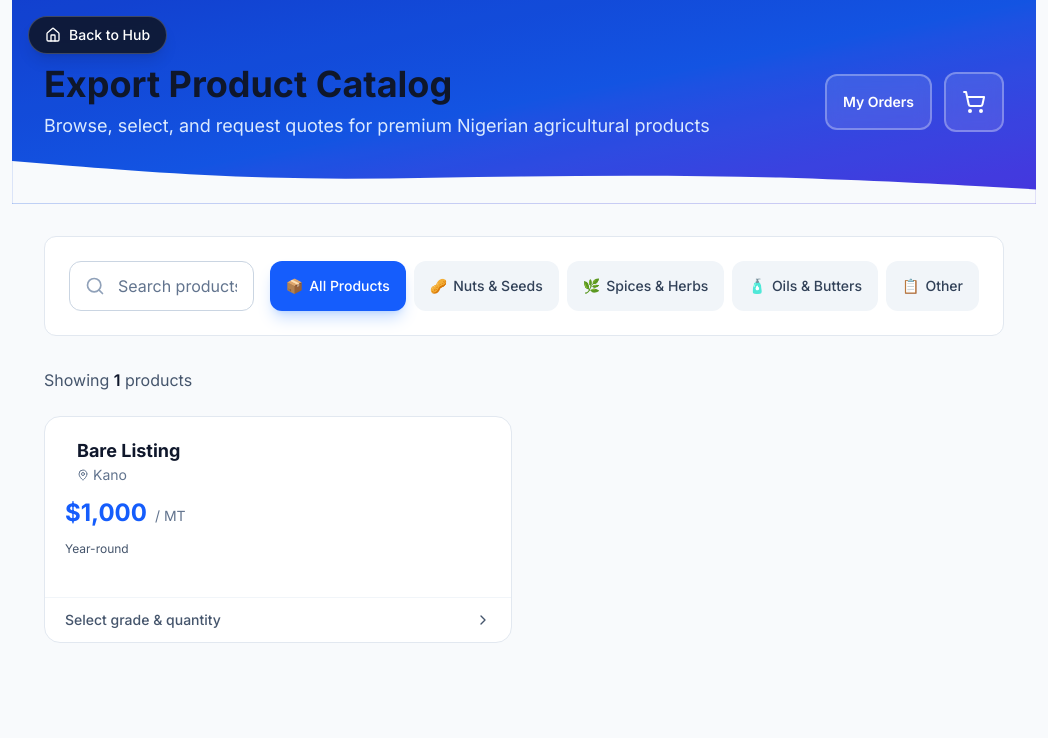
#581 — a row missing an array does not take the page down › A LISTING WITH NO GRADES AND NO CERTIFICATIONS STILL RENDERS
Step 1. Click the button "Select grade & quantity" → (143, 620), box [65,598,491,642]
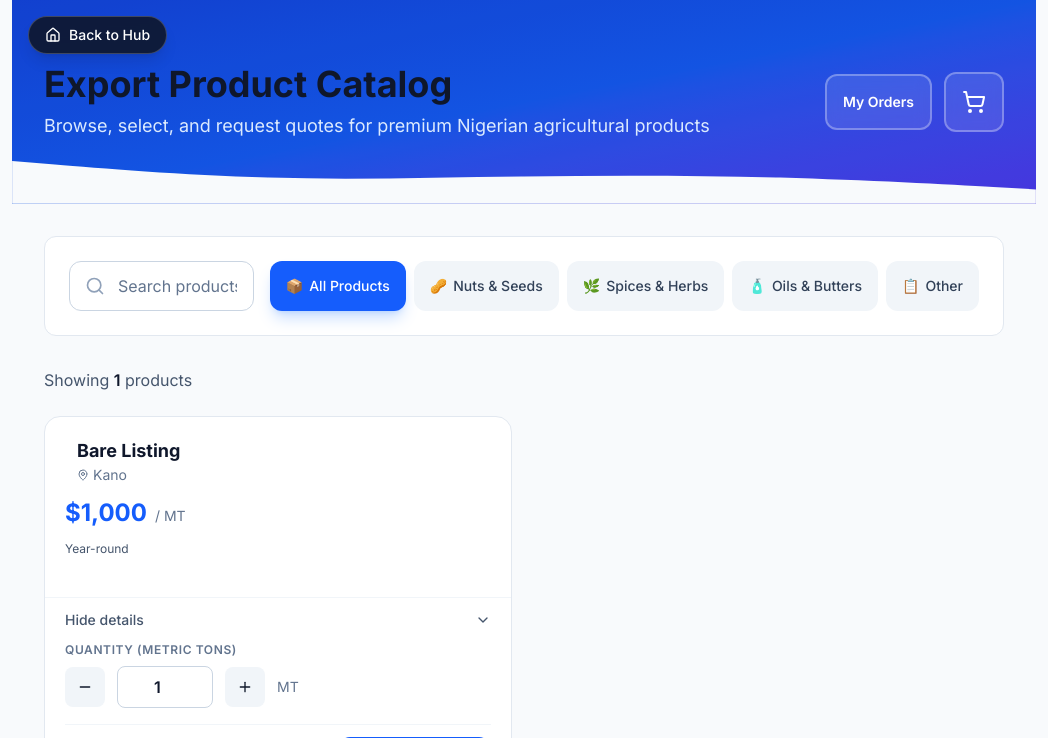
Result: the text "Select grade" is gone
